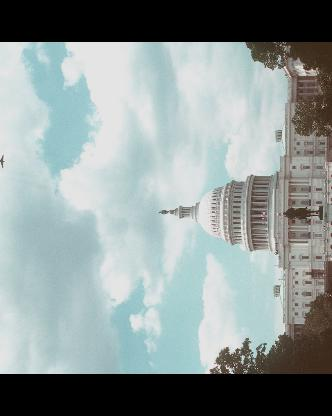B2: (0, 135, 4, 185)
